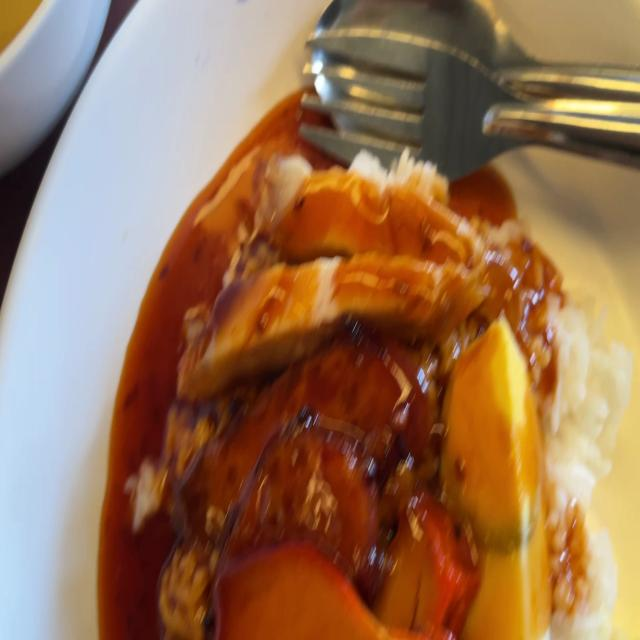red_pork_and_crispy_pork: (449, 324, 544, 640)
stir_fried_basil: (184, 349, 424, 553)
